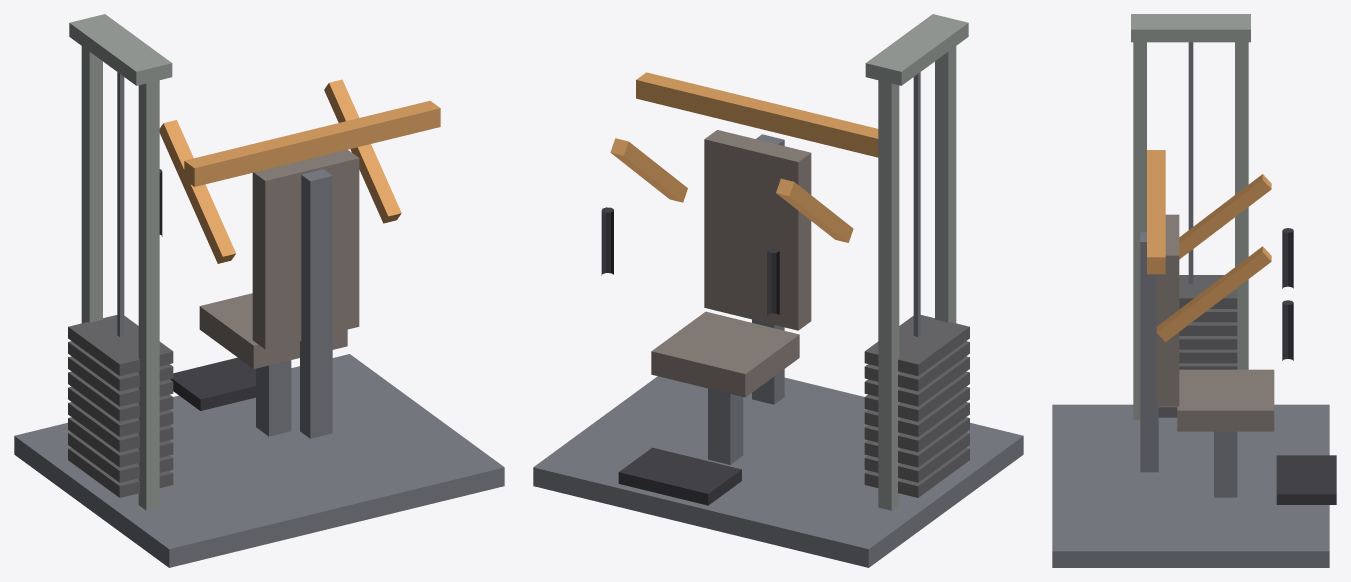
Rendered from machine_chest_press.glb.
3 views of the same model, side by side, from view 1: azimuth 30°, elevation 25°; view 2: azimuth 150°, elevation 25°; view 3: azimuth 270°, elevation 25° (orthographic). The views are drawn at different scales.
Visible parts, largest first — view 1: machine; view 2: machine; view 3: machine.
Part boxes in pixels (bbox=[...]): machine: bbox=[14, 14, 504, 567]; machine: bbox=[533, 14, 1023, 567]; machine: bbox=[1052, 14, 1336, 567].
Size of the model in its own units: 1.5 by 1.97 by 1.23.
